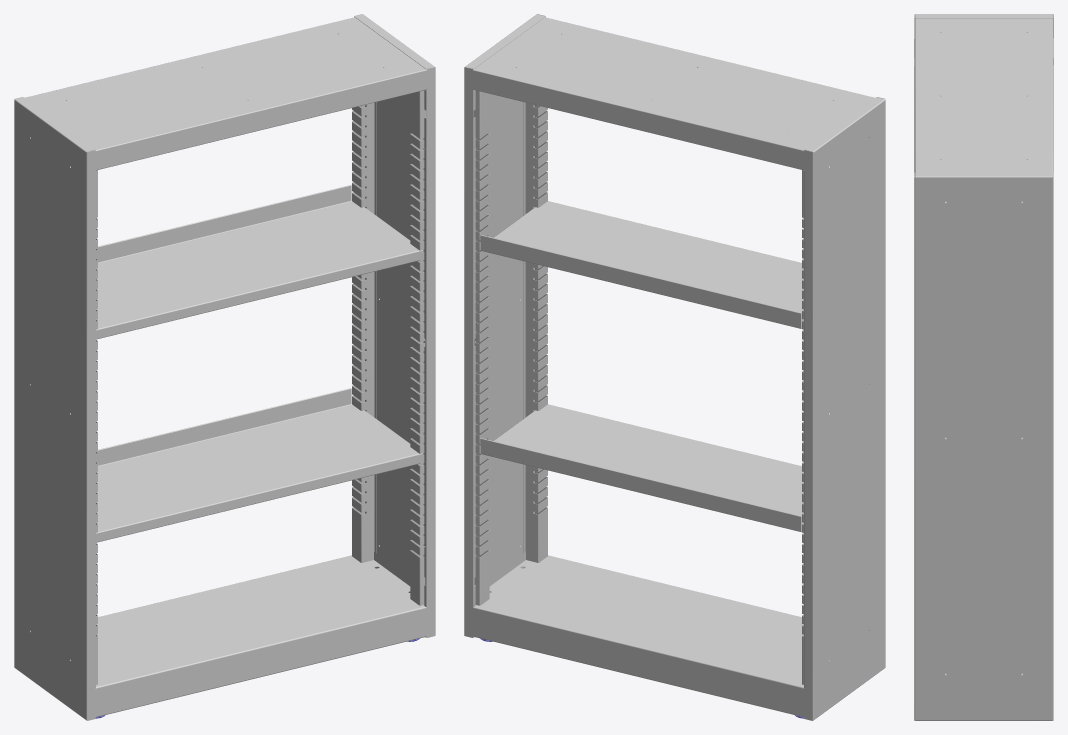
3 renders of one model, left to right at view 1: azimuth 30°, elevation 25°; view 2: azimuth 150°, elevation 25°; view 3: azimuth 270°, elevation 25°, orthographic. The views are drawn at different scales.
Visible parts, largest first — view 1: e1b77f8e-81c7-40ac-a3f3-e30d2d56e76c, bba2ff60-a264-404c-b2a2-02fd44596427; view 2: e1b77f8e-81c7-40ac-a3f3-e30d2d56e76c, bba2ff60-a264-404c-b2a2-02fd44596427; view 3: e1b77f8e-81c7-40ac-a3f3-e30d2d56e76c.
Boxes of the visible parts, left/top/right/bottom form: e1b77f8e-81c7-40ac-a3f3-e30d2d56e76c: left=14, top=14, right=435, bottom=720; bba2ff60-a264-404c-b2a2-02fd44596427: left=96, top=185, right=422, bottom=542; e1b77f8e-81c7-40ac-a3f3-e30d2d56e76c: left=464, top=14, right=885, bottom=720; bba2ff60-a264-404c-b2a2-02fd44596427: left=480, top=201, right=803, bottom=532; e1b77f8e-81c7-40ac-a3f3-e30d2d56e76c: left=914, top=14, right=1053, bottom=720.
Size of the model in its own units: 0.8994 by 1.41 by 0.3244.
2 materials, 1 textured.
